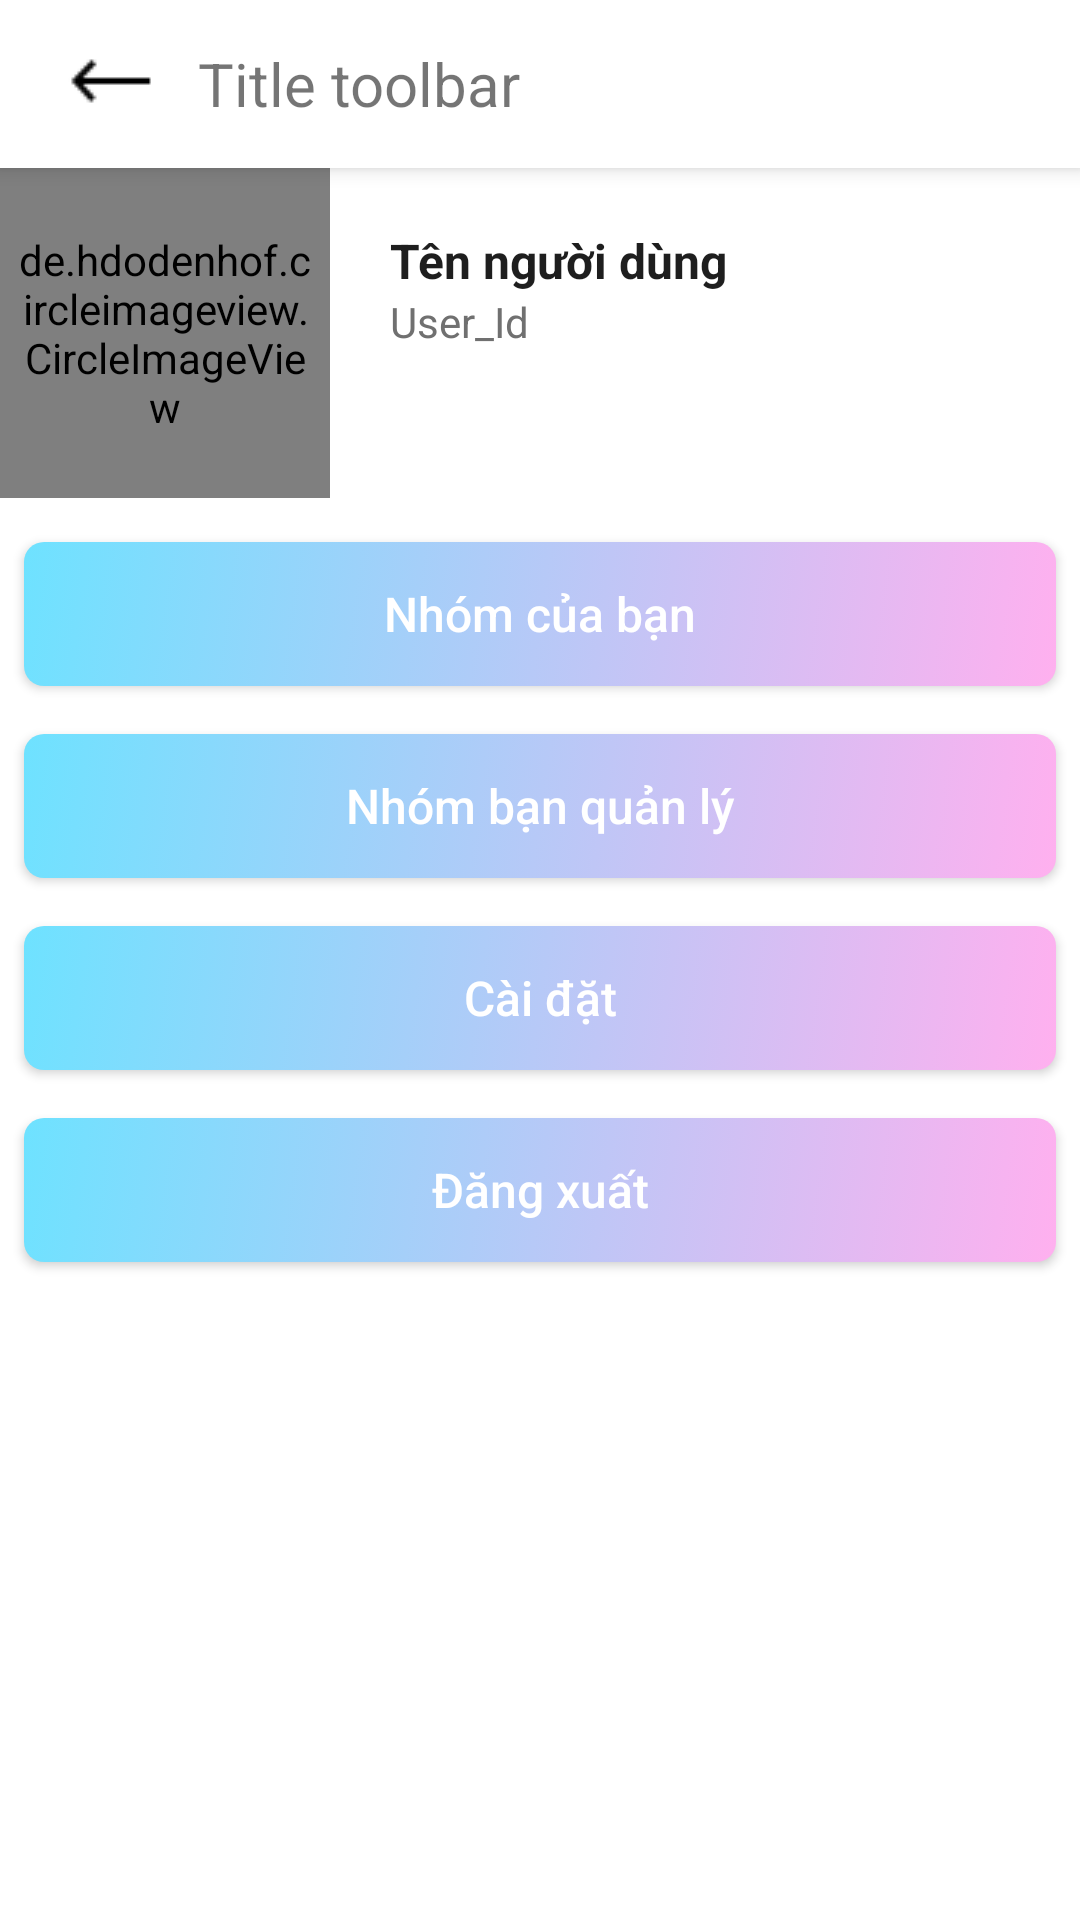

Locate icon controls on the screen. Image size 1080px×1920px, boxes as {"left": x1, "top": y1, "right": x2, "bottom": y2}.
back toolbar: {"left": 71, "top": 59, "right": 151, "bottom": 103}
